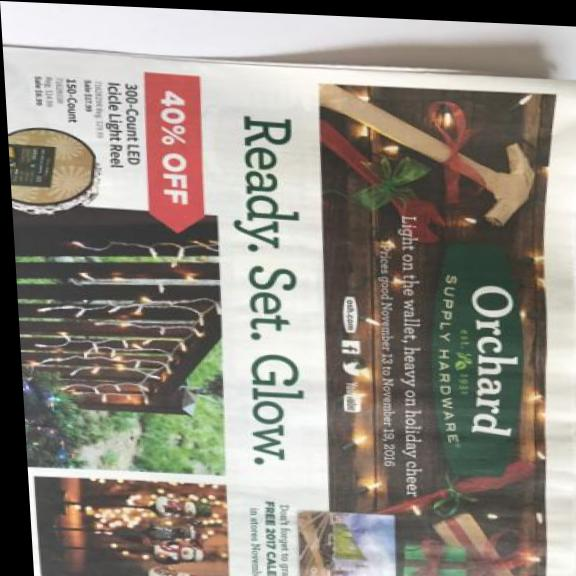Kertas: (3, 47, 576, 576)
